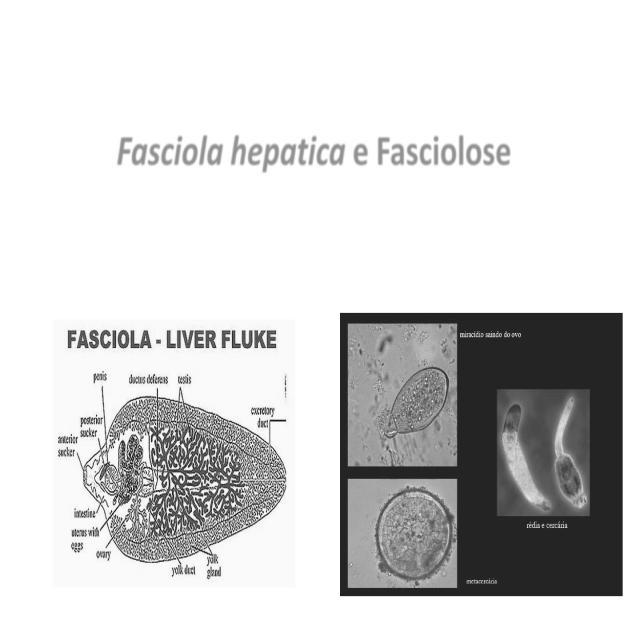Fasciola Hepatica: (371, 478, 457, 588), (390, 362, 454, 439)
